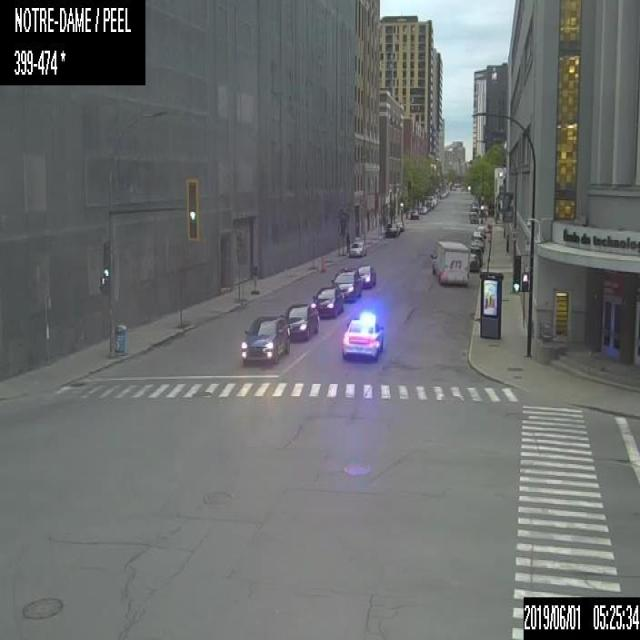construction: (319, 255, 326, 272)
pedestrian: (344, 229, 350, 251)
vehicle: (240, 314, 290, 366), (341, 311, 384, 361), (430, 239, 468, 287), (281, 302, 318, 340), (330, 266, 360, 300), (311, 286, 342, 318), (355, 263, 376, 288), (348, 238, 367, 254), (469, 246, 483, 266), (468, 252, 479, 272), (384, 222, 398, 237), (473, 223, 487, 237), (470, 234, 484, 247), (468, 210, 478, 222), (396, 220, 404, 231), (410, 210, 418, 218), (420, 205, 426, 213)
